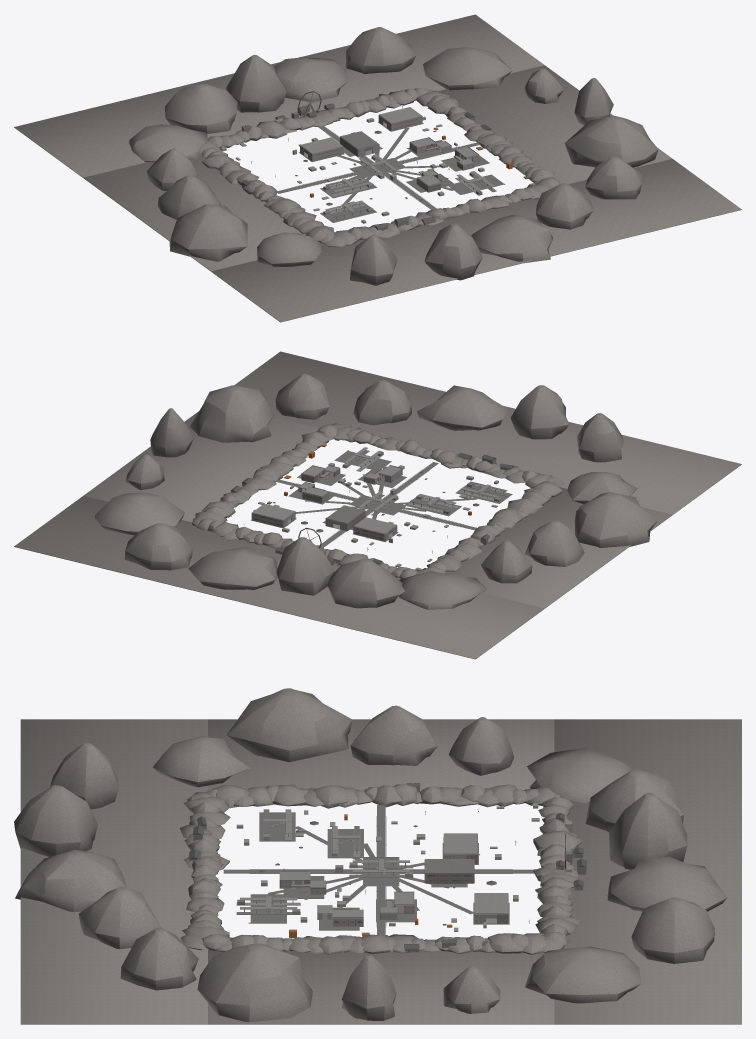
3 views of the same model, one above another, from view 1: azimuth 30°, elevation 25°; view 2: azimuth 150°, elevation 25°; view 3: azimuth 270°, elevation 25° (orthographic). The views are drawn at different scales.
Parts seen in each view (by area): view 1: HB_z09_LOD1_terrain, HB_z09_LOD1_wall, HB_z09_LOD1_road, HB_z09_LOD1_wall_alt, HB_z09_LOD1_obstacle, HB_z09_LOD1_trim; view 2: HB_z09_LOD1_terrain, HB_z09_LOD1_wall, HB_z09_LOD1_road, HB_z09_LOD1_wall_alt, HB_z09_LOD1_obstacle, HB_z09_LOD1_trim; view 3: HB_z09_LOD1_terrain, HB_z09_LOD1_road, HB_z09_LOD1_wall, HB_z09_LOD1_wall_alt, HB_z09_LOD1_trim, HB_z09_LOD1_obstacle.
Part boxes in pixels (left/top/right/bottom): HB_z09_LOD1_terrain: left=14, top=14, right=741, bottom=322; HB_z09_LOD1_wall: left=300, top=107, right=494, bottom=218; HB_z09_LOD1_road: left=277, top=123, right=502, bottom=222; HB_z09_LOD1_wall_alt: left=241, top=103, right=503, bottom=230; HB_z09_LOD1_obstacle: left=220, top=111, right=534, bottom=223; HB_z09_LOD1_trim: left=236, top=91, right=491, bottom=228; HB_z09_LOD1_terrain: left=14, top=351, right=741, bottom=659; HB_z09_LOD1_wall: left=252, top=447, right=503, bottom=541; HB_z09_LOD1_road: left=250, top=451, right=512, bottom=546; HB_z09_LOD1_wall_alt: left=230, top=450, right=513, bottom=565; HB_z09_LOD1_obstacle: left=253, top=436, right=498, bottom=570; HB_z09_LOD1_trim: left=221, top=453, right=513, bottom=563; HB_z09_LOD1_terrain: left=14, top=688, right=741, bottom=1024; HB_z09_LOD1_road: left=223, top=805, right=533, bottom=935; HB_z09_LOD1_wall: left=236, top=809, right=508, bottom=926; HB_z09_LOD1_wall_alt: left=189, top=786, right=586, bottom=952; HB_z09_LOD1_trim: left=188, top=783, right=586, bottom=951; HB_z09_LOD1_obstacle: left=213, top=803, right=571, bottom=937.
Bounding box in the file's own units: 667 × 62.94 × 660.
Materials: 9 (8 with a texture image).
